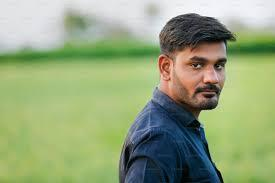Human: (127, 11, 231, 183)
